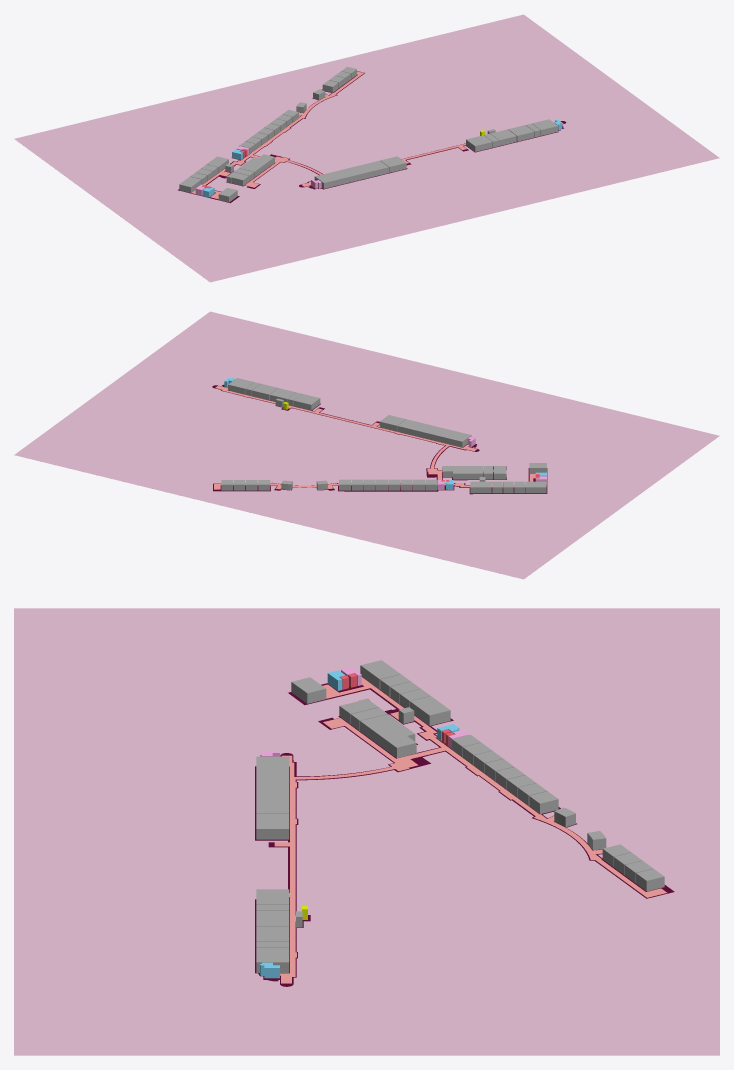
The model's file is njc-l4-v2-31-3.glb.
3 views of the same model, one above another, from view 1: azimuth 30°, elevation 25°; view 2: azimuth 150°, elevation 25°; view 3: azimuth 270°, elevation 25° (orthographic). The views are drawn at different scales.
Visible parts, largest first — view 1: Grey, None, Foot, Base; view 2: Grey, None, Base, Foot; view 3: Grey, None, Foot, Base.
Boxes of the visible parts, x1,y1,x2,y2 form: Grey: (14, 14, 719, 282); None: (179, 66, 558, 202); Foot: (191, 71, 563, 199); Base: (178, 71, 566, 203); Grey: (14, 311, 719, 579); None: (221, 378, 546, 493); Base: (212, 384, 547, 494); Foot: (214, 385, 535, 489); Grey: (14, 608, 719, 1055); None: (256, 660, 664, 972); Foot: (274, 677, 666, 983); Base: (255, 679, 674, 986).
Bounding box in the file's own units: 18 × 0.2 × 12.
